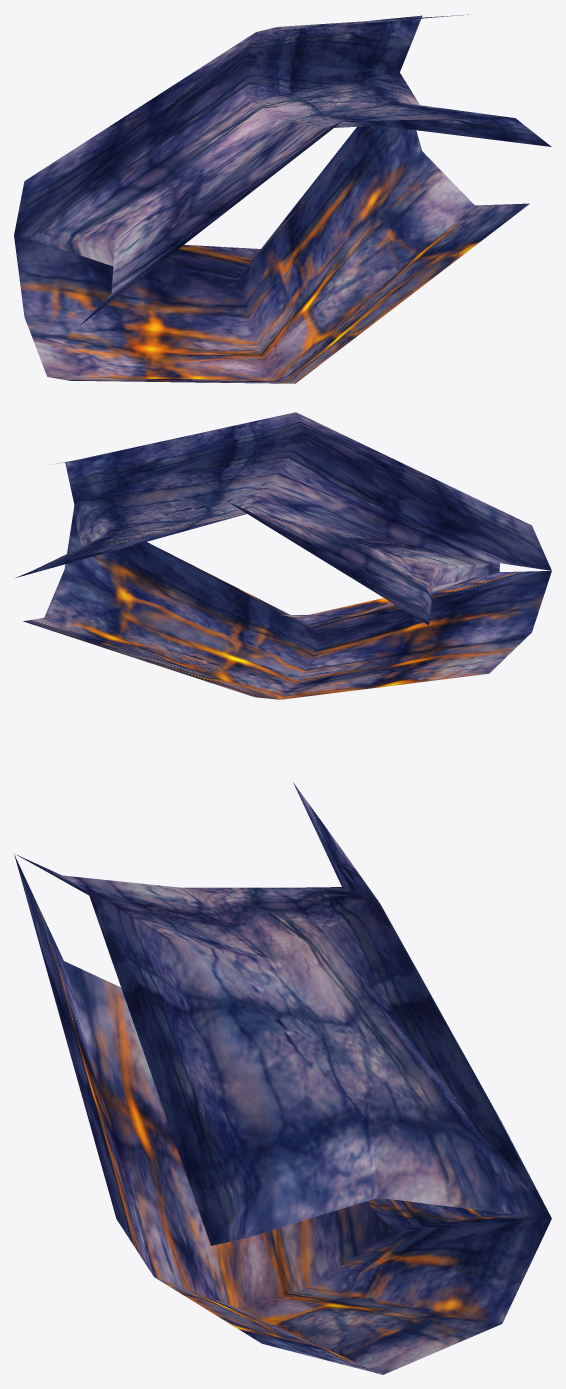
The picture shows the model from 3 angles, top to bottom: view 1: azimuth 30°, elevation 25°; view 2: azimuth 150°, elevation 25°; view 3: azimuth 270°, elevation 25°; orthographic projection. The views are drawn at different scales.
Visible parts, largest first — view 1: 03; view 2: 03; view 3: 03.
Boxes of the visible parts, x1,y1,x2,y2 form: 03: (14, 14, 551, 383); 03: (16, 412, 551, 699); 03: (14, 782, 551, 1374).
Bounding box in the file's own units: 11058 × 6866 × 6407.
2 materials, 2 textured.
